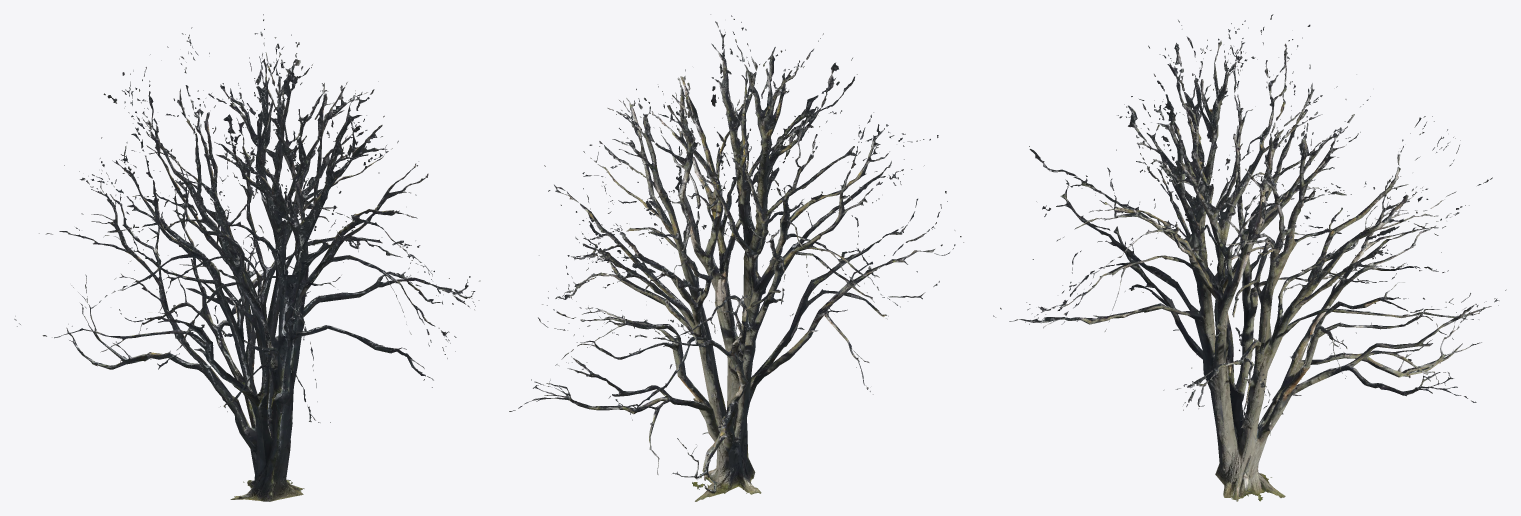
Rendered from tree.glb.
3 views of the same model, side by side, from view 1: azimuth 30°, elevation 25°; view 2: azimuth 150°, elevation 25°; view 3: azimuth 270°, elevation 25° (orthographic). The views are drawn at different scales.
Visible parts, largest first — view 1: Object_2; view 2: Object_2; view 3: Object_2.
Boxes of the visible parts, x1,y1,x2,y2 form: Object_2: (14,14,480,501); Object_2: (509,14,963,501); Object_2: (993,14,1506,501).
Size of the model in its own units: 2.59 by 3.1 by 3.08.
Materials: 1 (1 with a texture image).
